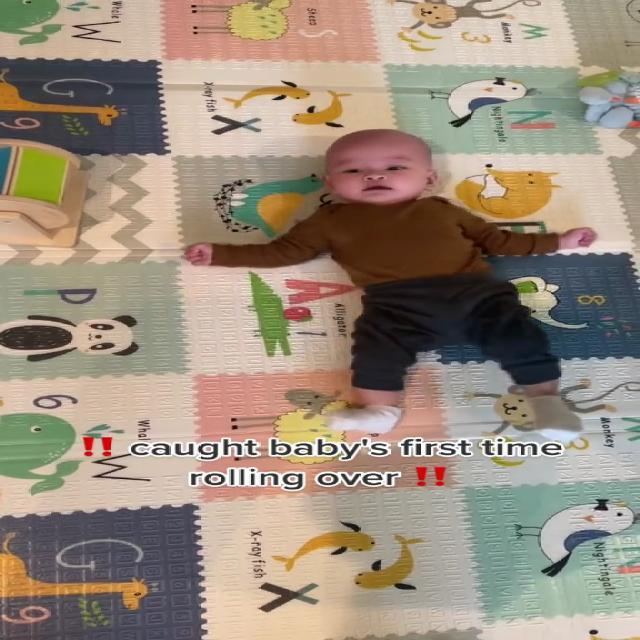baby: (182, 122, 630, 440)
